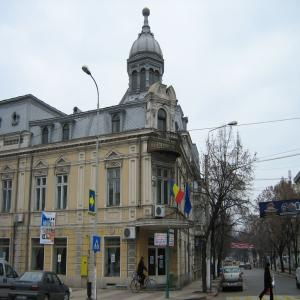Vehicle-registration-plate: (18, 296, 28, 300), (229, 283, 237, 288)
